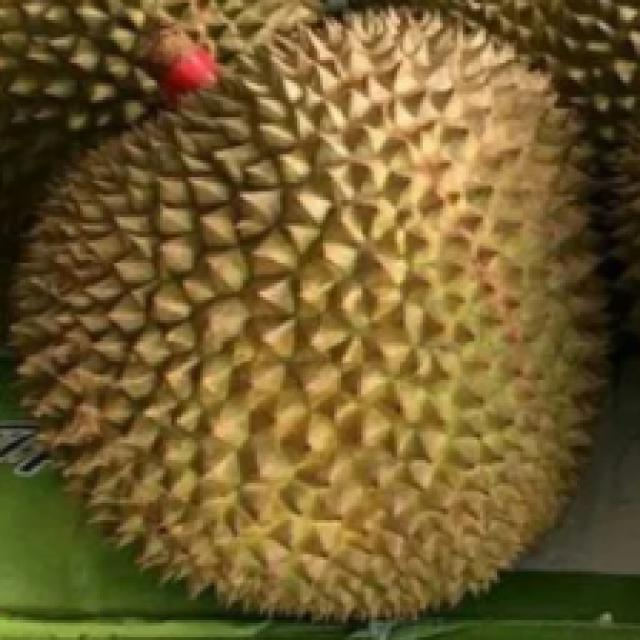d24: (59, 27, 594, 596)
